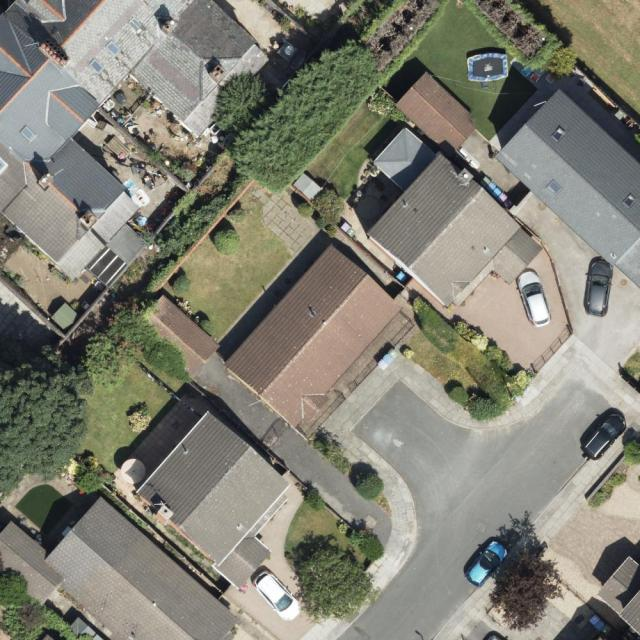roof: (1, 0, 271, 286), (0, 496, 239, 639), (224, 244, 404, 427), (366, 127, 544, 308), (494, 89, 640, 289), (135, 411, 292, 591), (132, 294, 220, 382), (395, 72, 480, 156), (599, 556, 640, 636)
skylight: (544, 177, 564, 198), (621, 193, 638, 212), (88, 58, 105, 76), (105, 39, 121, 58), (551, 125, 567, 142), (129, 17, 144, 32)
